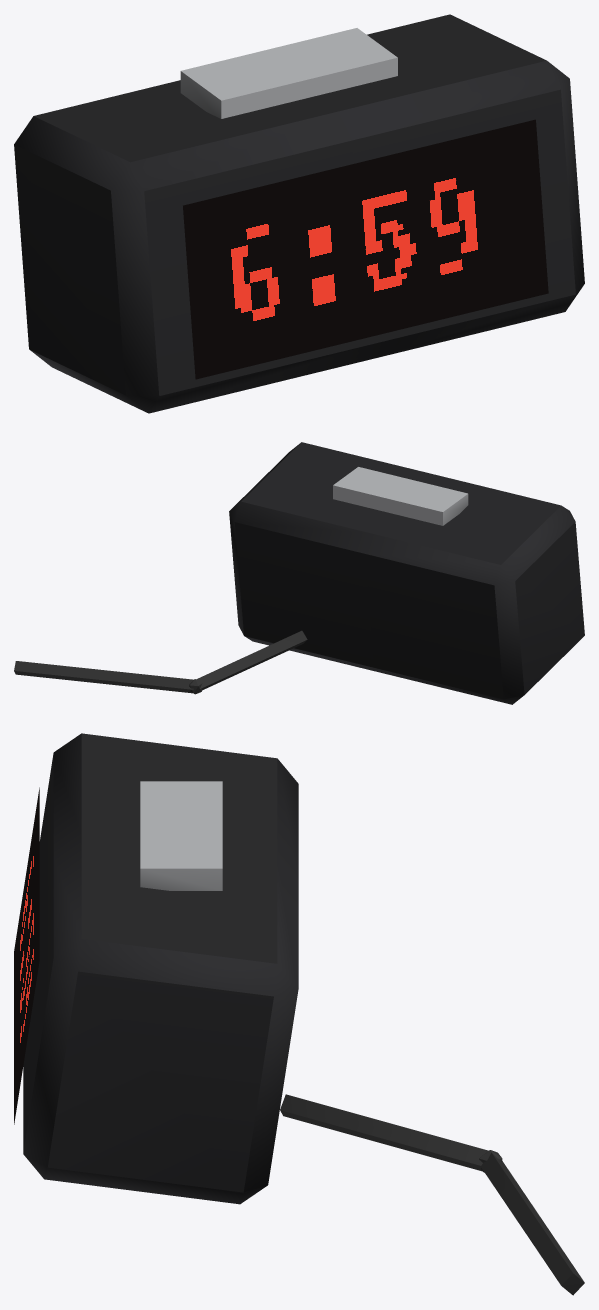
The model's file is alarm_clock.glb.
3 renders of one model, top to bottom at view 1: azimuth 30°, elevation 25°; view 2: azimuth 150°, elevation 25°; view 3: azimuth 270°, elevation 25°, orthographic. The views are drawn at different scales.
Visible parts, largest first — view 1: body, screens; view 2: body; view 3: body, screens.
Part boxes in pixels (x1,y1,x2,y2): body: (14,14,584,413); screens: (183,119,548,379); body: (14,442,584,704); body: (23,733,584,1295); screens: (14,787,39,1124).
Size of what is drawn, in the model's own units: 0.1858 by 0.074 by 0.1385.
Materials: 4 (1 with a texture image).
